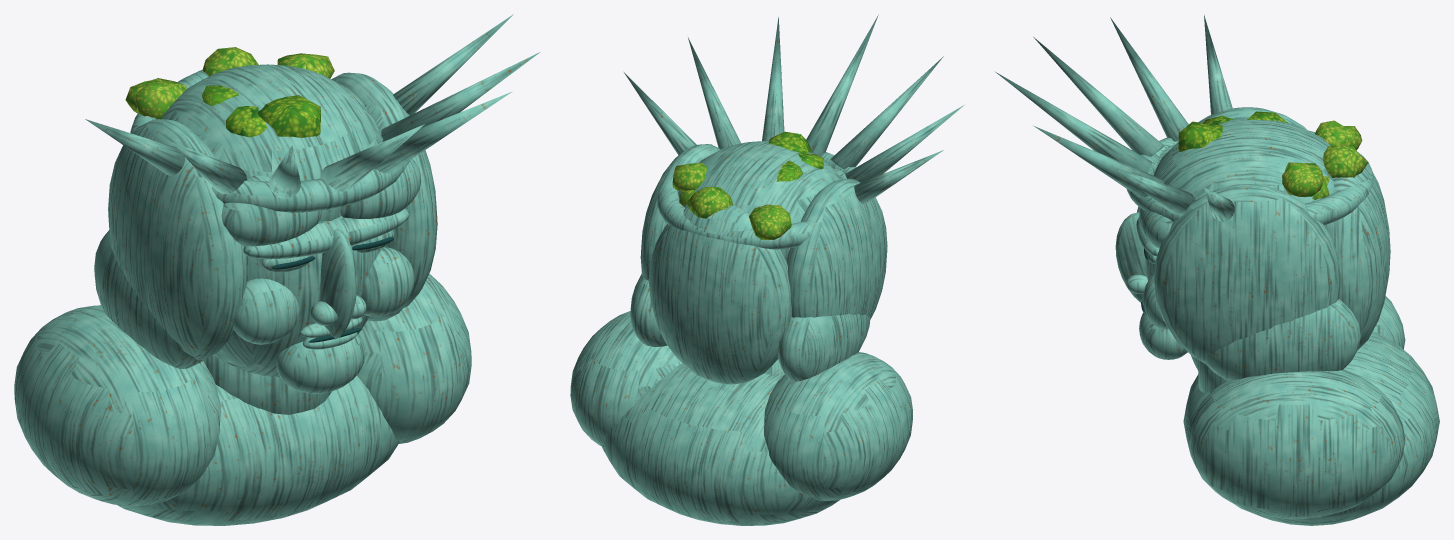
Rendered from statue-head.glb.
The picture shows the model from 3 angles, left to right: view 1: azimuth 30°, elevation 25°; view 2: azimuth 150°, elevation 25°; view 3: azimuth 270°, elevation 25°; orthographic projection. The views are drawn at different scales.
Visible parts, largest first — view 1: statue-head; view 2: statue-head; view 3: statue-head.
Boxes of the visible parts, left/top/right/bottom form: statue-head: left=14, top=14, right=540, bottom=525; statue-head: left=570, top=14, right=963, bottom=525; statue-head: left=995, top=15, right=1439, bottom=525.
Bounding box in the file's own units: 4.16 × 4.82 × 4.52.
Materials: 4 (4 with a texture image).
